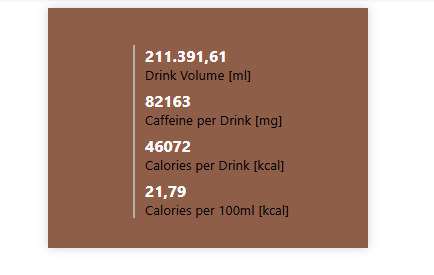

Layout of this report page (visuals, bound fields, positions):
{"tool":"powerbi","page":{"name":"Tooltip Contents 1","canvas":[320,240],"ordinal":5},"visuals":[{"type":"multiRowCard","fields":{"Values":["Sum(Fact_Caffeine_Content.volume_ml)","Sum(Fact_Caffeine_Content.caffeine_mg)","Sum(Fact_Caffeine_Content.calories)","Measures Table.Calories per 100"]},"box":[80,32,168,184],"z":0}]}

Visuals, with their boxes on the page's 320x240 design canvas (x1, y1, x2, y2). These are canvas units, not pixel positions in the 434x275 screenshot, which may show the page scaled, cropped or inside an application window:
multiRowCard - Sum(Fact_Caffeine_Content.volume_ml) x Sum(Fact_Caffeine_Content.caffeine_mg): 80/32/248/216
